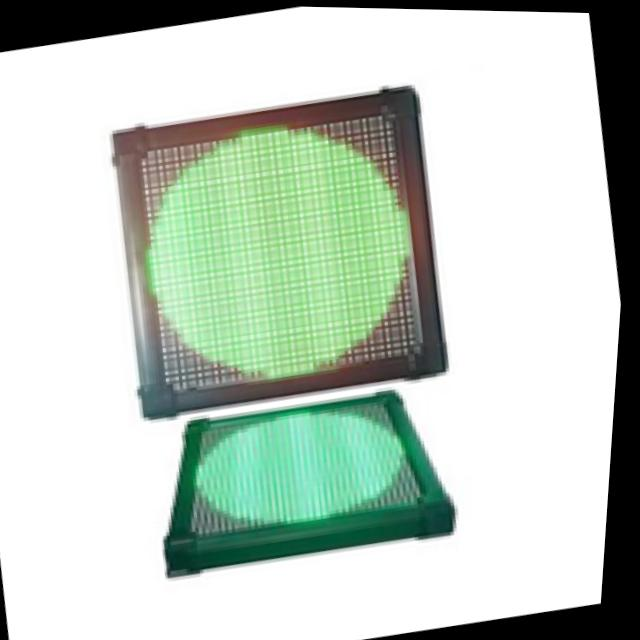green_light: (100, 61, 477, 466), (155, 346, 456, 581)
